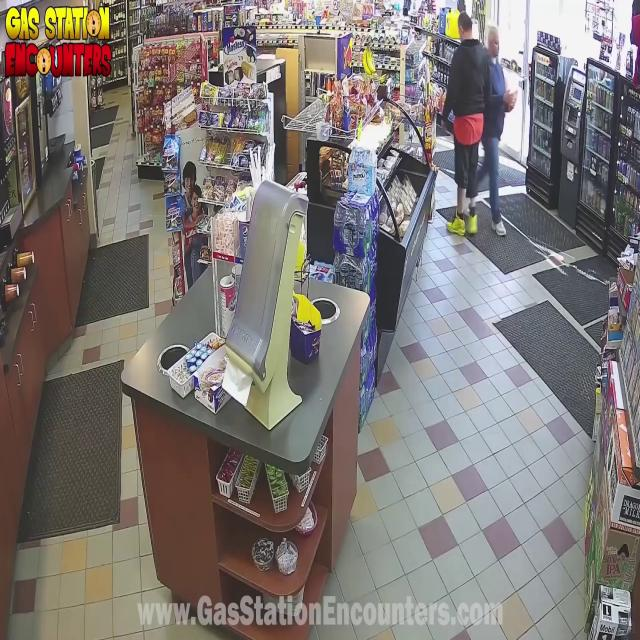Product: (500, 79, 520, 118)
normal: (438, 7, 488, 264)
shoplifting: (489, 21, 540, 237)
